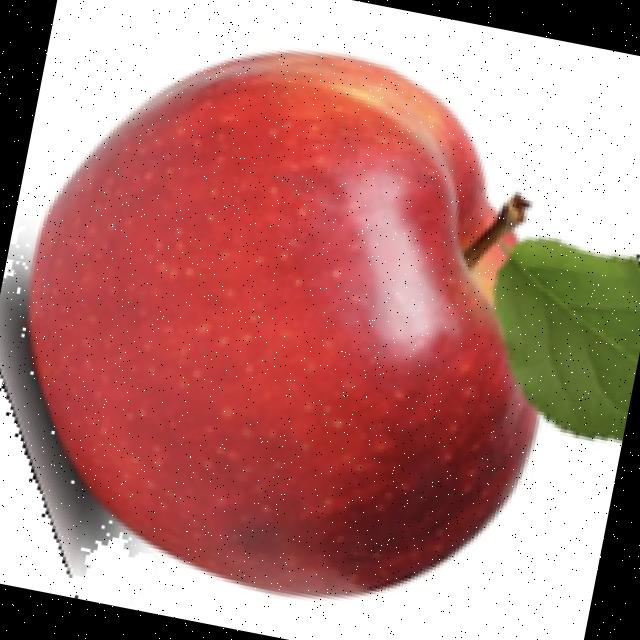apple: (0, 45, 640, 602)
